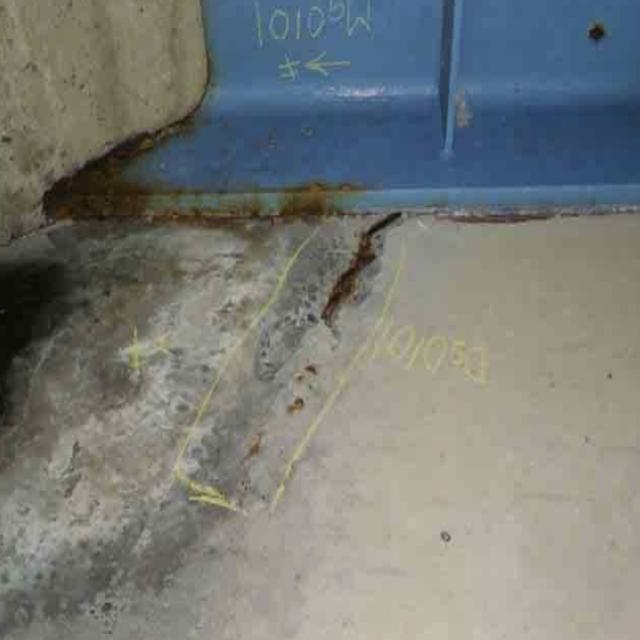corrosion: (36, 110, 583, 273)
